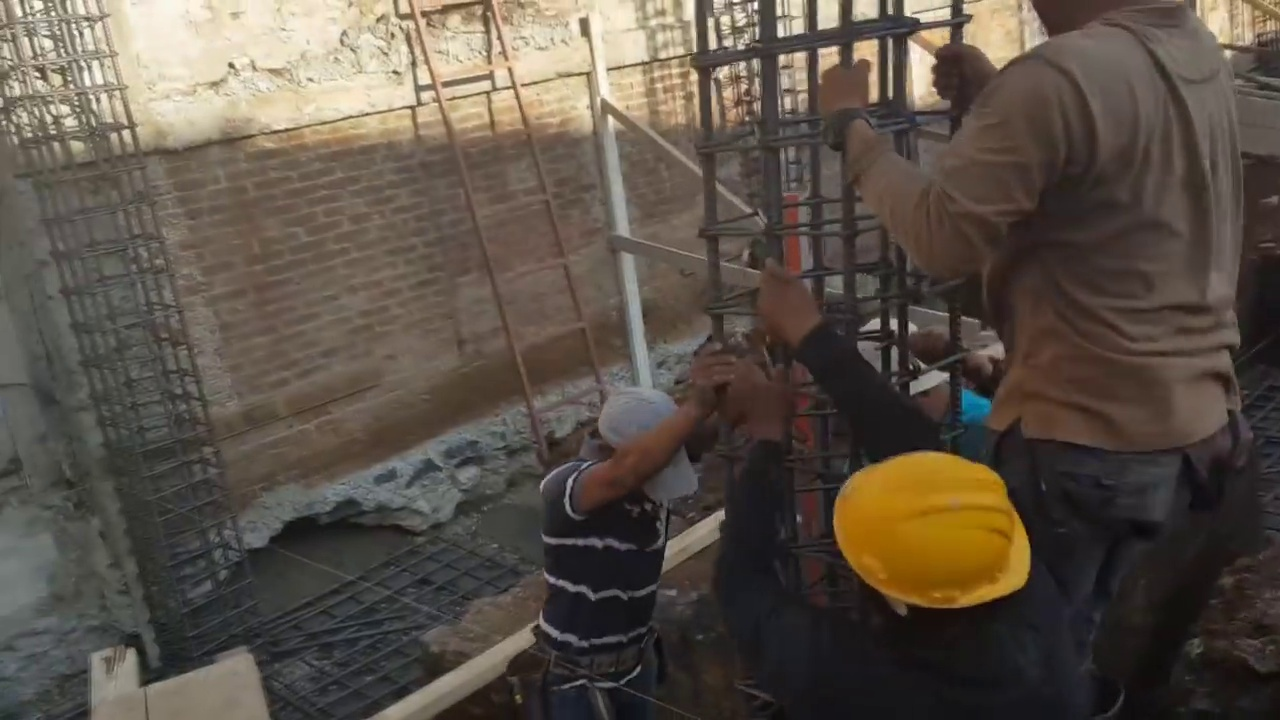helmet: (830, 448, 1037, 623)
helmet-off: (582, 391, 722, 512)
person: (848, 0, 1242, 626), (730, 355, 1126, 717), (536, 391, 722, 703)
